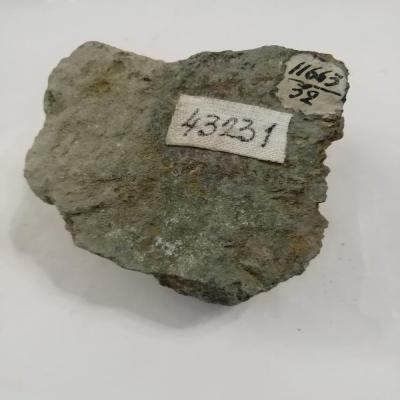mineralogy: (23, 42, 351, 308)
